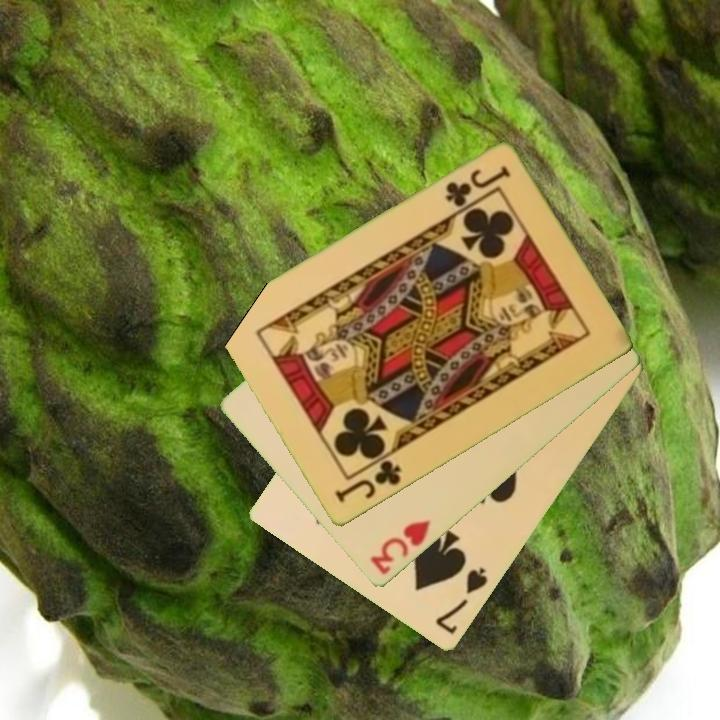3h: (367, 517, 434, 579)
7s: (432, 564, 491, 638)
Jc: (331, 457, 404, 507), (441, 163, 513, 211)
